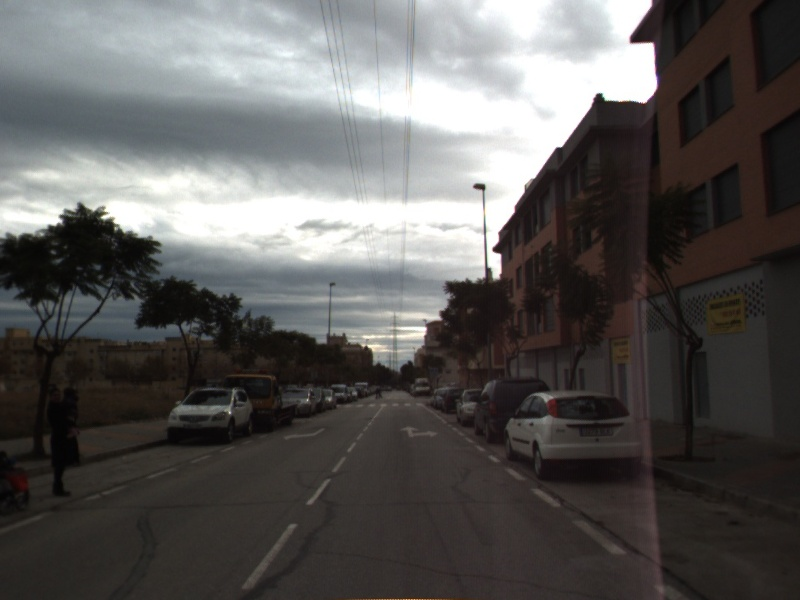STRAIGHT_RIGHT: (398, 423, 439, 439)
